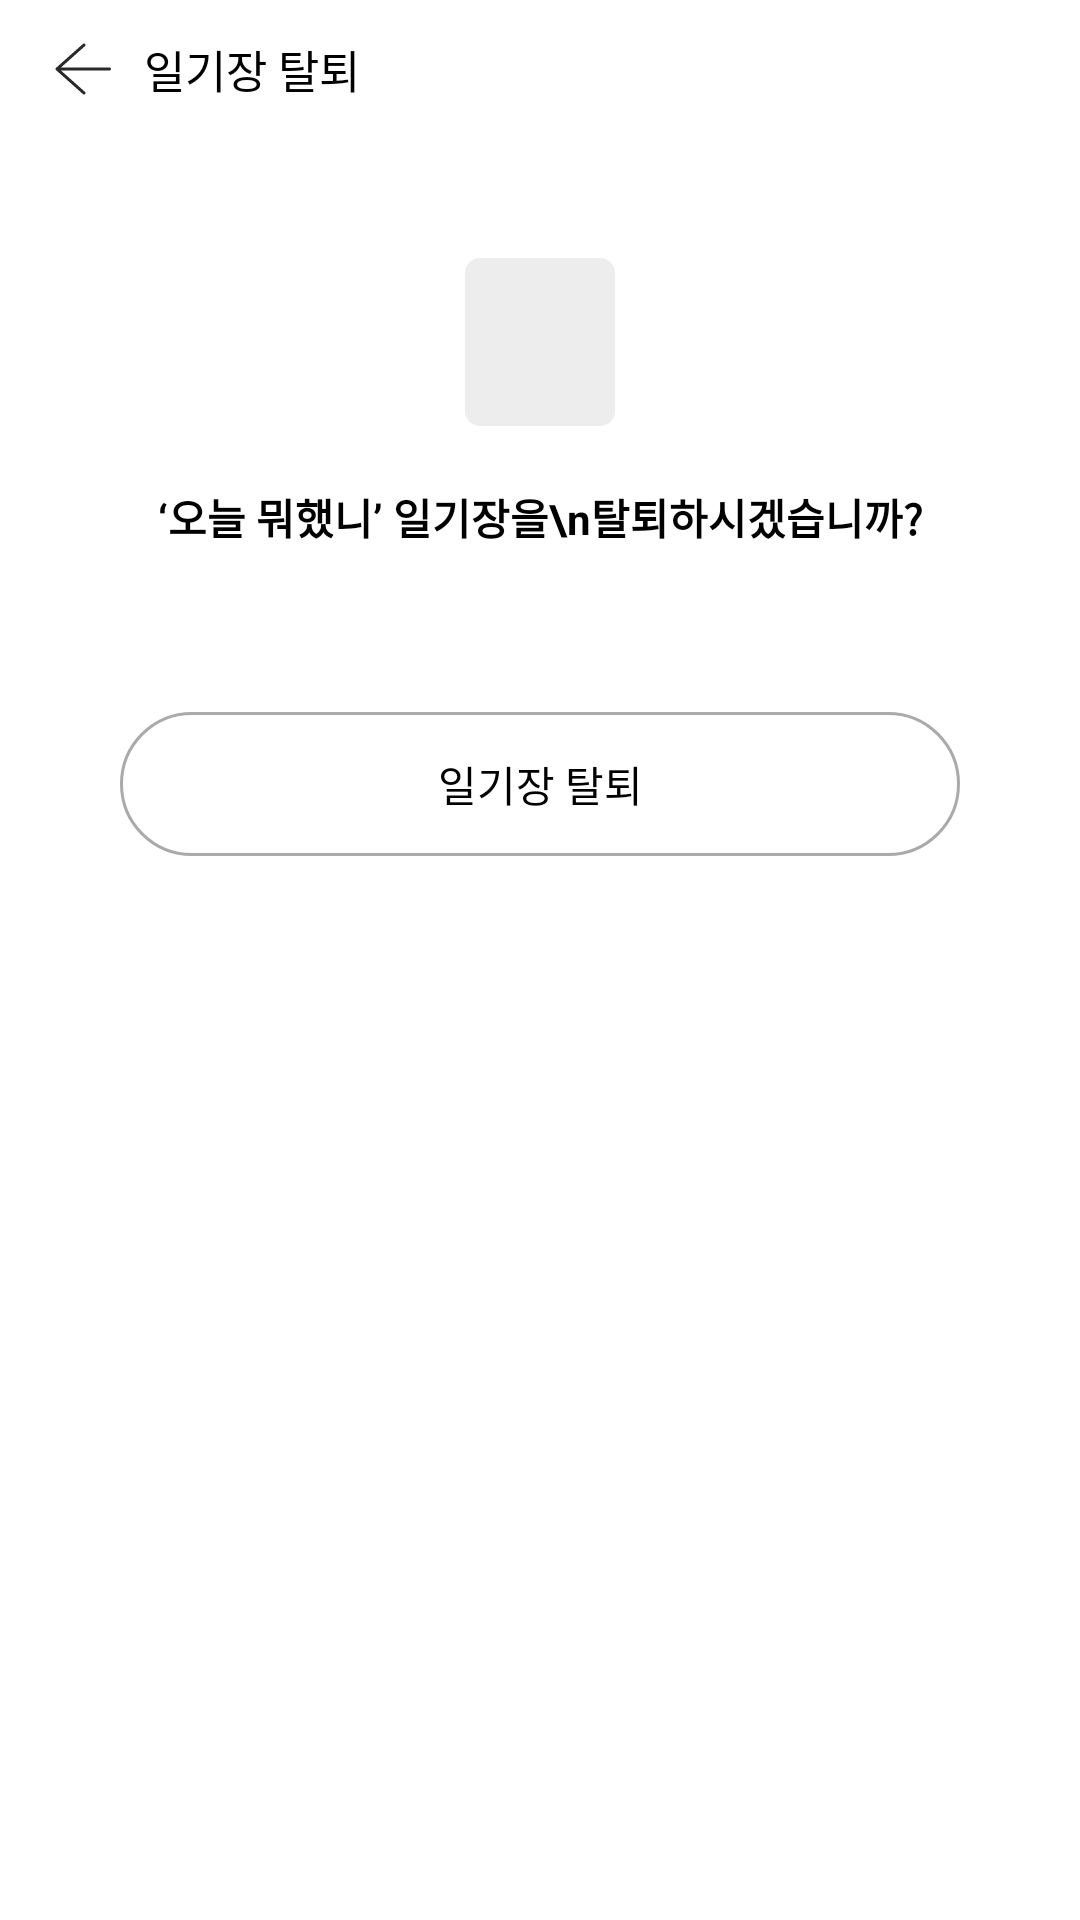

Where to tap for icons on this 1080px x 1920px app screen, as [x,y]:
back: [83,69]
